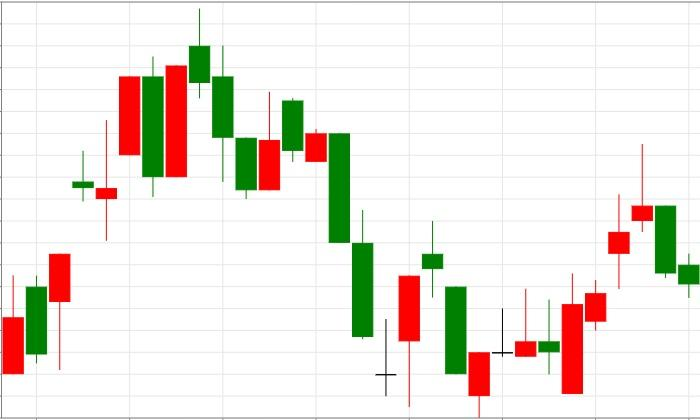morning_star_rise: (282, 96, 421, 406)
shooting_star_fall: (561, 144, 653, 393)
